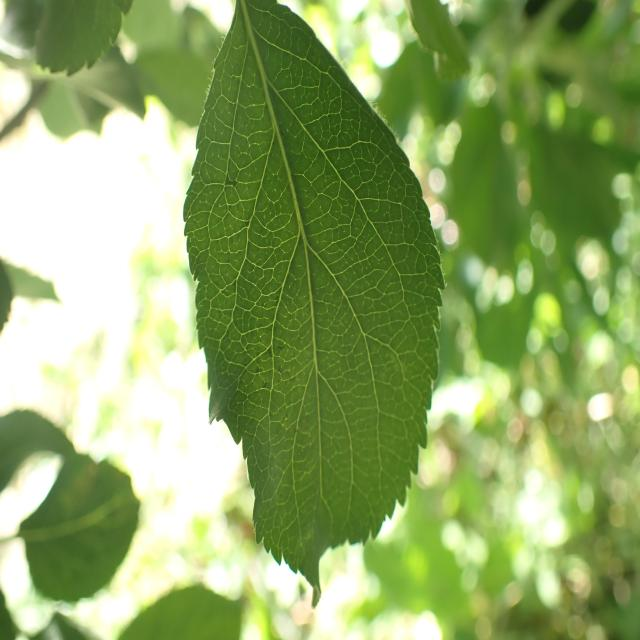healthy: (183, 0, 446, 608)
